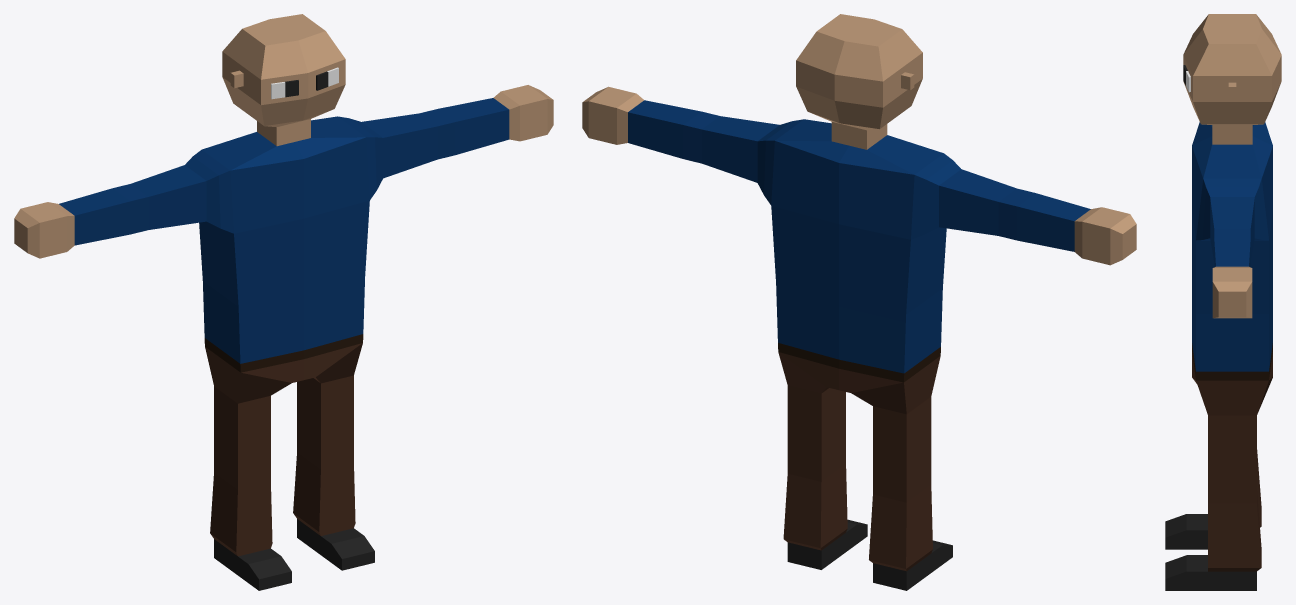
Rendered from testplayerwithtextures.fbx.
3 views of the same model, side by side, from view 1: azimuth 30°, elevation 25°; view 2: azimuth 150°, elevation 25°; view 3: azimuth 270°, elevation 25° (orthographic). The views are drawn at different scales.
Parts seen in each view (by area): view 1: Body_Cube; view 2: Body_Cube; view 3: Body_Cube.
Boxes of the visible parts, x1,y1,x2,y2 form: Body_Cube: (14, 14, 553, 590); Body_Cube: (582, 14, 1136, 590); Body_Cube: (1165, 14, 1281, 590).
Size of the model in its own units: 577 by 548 by 109.
1 material, 1 textured.
